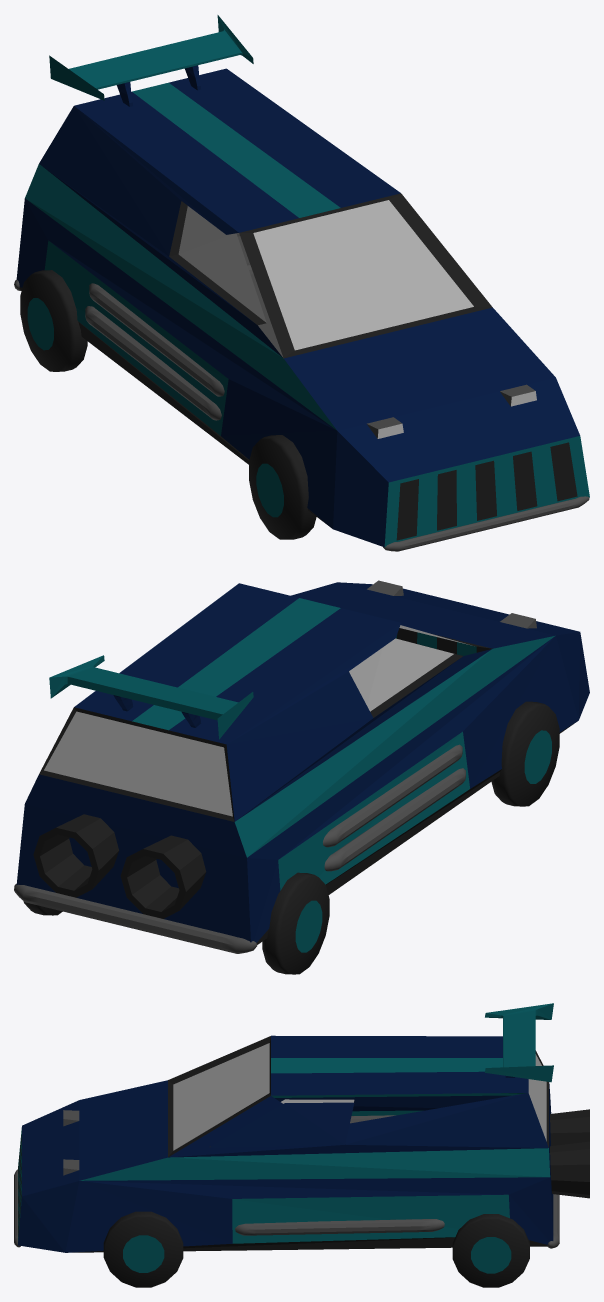
Rendered from car1_bl.fbx.
3 views of the same model, one above another, from view 1: azimuth 30°, elevation 25°; view 2: azimuth 150°, elevation 25°; view 3: azimuth 270°, elevation 25° (orthographic). The views are drawn at different scales.
Visible parts, largest first — view 1: Car, Spoiler, FLW, RLW, pCylinder4, pCylinder3, pCylinder6; view 2: Car, FLW, Spoiler, RLW, Rthrust, Lthrust, pCylinder5, pCylinder4, pCylinder3; view 3: Car, FRW, RRW, Spoiler, pCylinder2, Lthrust, Rthrust, pCylinder5.
Boxes of the visible parts, x1,y1,x2,y2 form: Car: [16, 68, 589, 547]; Spoiler: [49, 15, 253, 106]; FLW: [249, 435, 316, 539]; RLW: [20, 270, 87, 371]; pCylinder4: [85, 306, 221, 420]; pCylinder3: [89, 283, 224, 396]; pCylinder6: [383, 496, 589, 551]; Car: [16, 580, 589, 944]; FLW: [491, 701, 559, 806]; Spoiler: [49, 655, 253, 739]; RLW: [262, 872, 329, 974]; Rthrust: [120, 835, 206, 918]; Lthrust: [33, 814, 119, 897]; pCylinder5: [14, 884, 256, 953]; pCylinder4: [324, 768, 465, 871]; pCylinder3: [323, 744, 462, 847]; Car: [18, 1035, 553, 1252]; FRW: [103, 1211, 183, 1287]; RRW: [452, 1214, 529, 1287]; Spoiler: [485, 1003, 553, 1082]; pCylinder2: [235, 1219, 444, 1235]; Lthrust: [550, 1141, 589, 1198]; Rthrust: [550, 1109, 589, 1145]; pCylinder5: [547, 1194, 559, 1248].
Size of the model in its own units: 3.69 by 3.59 by 9.07.
